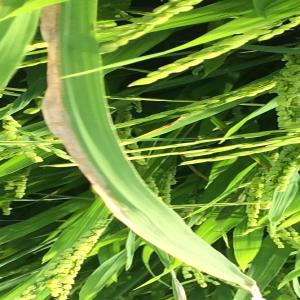2 BacterialBlight: (39, 3, 104, 167)
